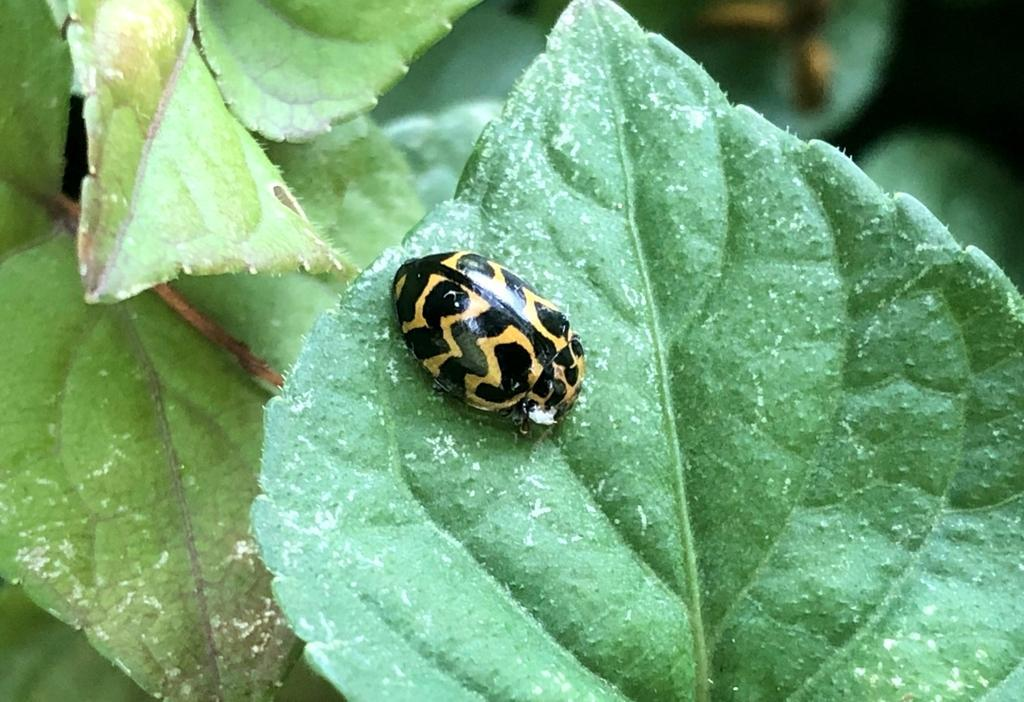ladybug: (389, 247, 591, 443)
